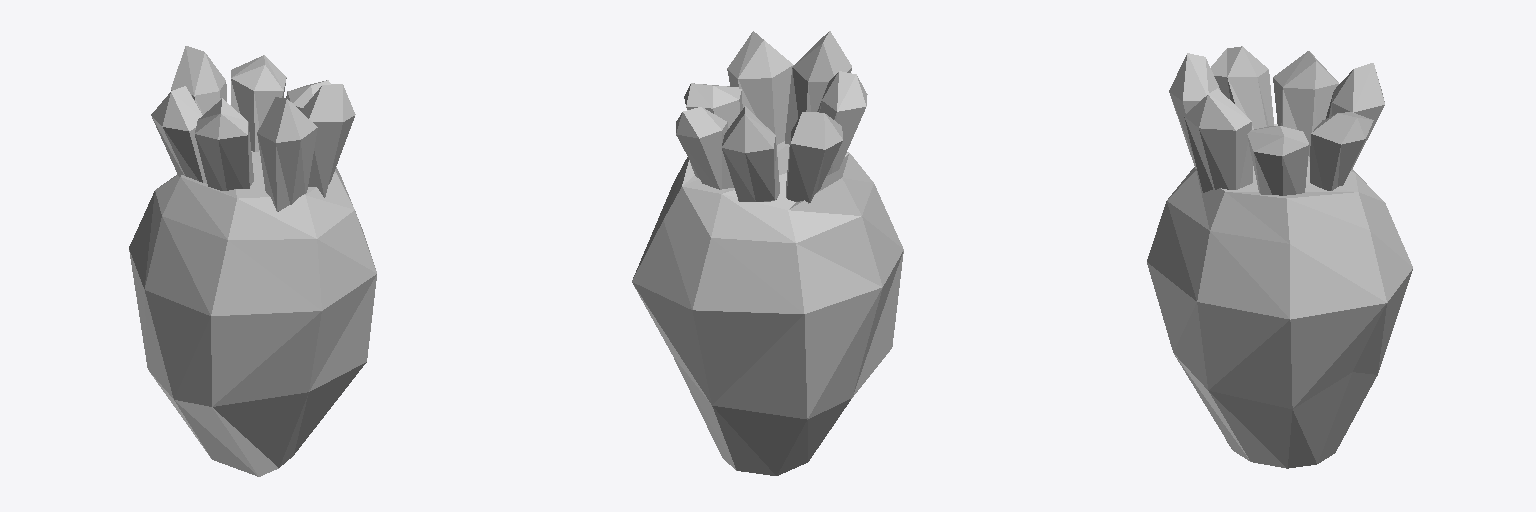
File: Sponge_A_03_LOD2.obj
3 renders of one model, left to right at view 1: azimuth 30°, elevation 25°; view 2: azimuth 150°, elevation 25°; view 3: azimuth 270°, elevation 25°, orthographic.
Parts seen in each view (by area): view 1: Sponge_A_03_LOD2_Cylinder.425; view 2: Sponge_A_03_LOD2_Cylinder.425; view 3: Sponge_A_03_LOD2_Cylinder.425.
Part boxes in pixels (x1,y1,x2,y2): Sponge_A_03_LOD2_Cylinder.425: (129, 46, 376, 476); Sponge_A_03_LOD2_Cylinder.425: (632, 31, 903, 475); Sponge_A_03_LOD2_Cylinder.425: (1147, 46, 1412, 468).
Bounding box in the file's own units: 2.71 × 4.48 × 2.77.